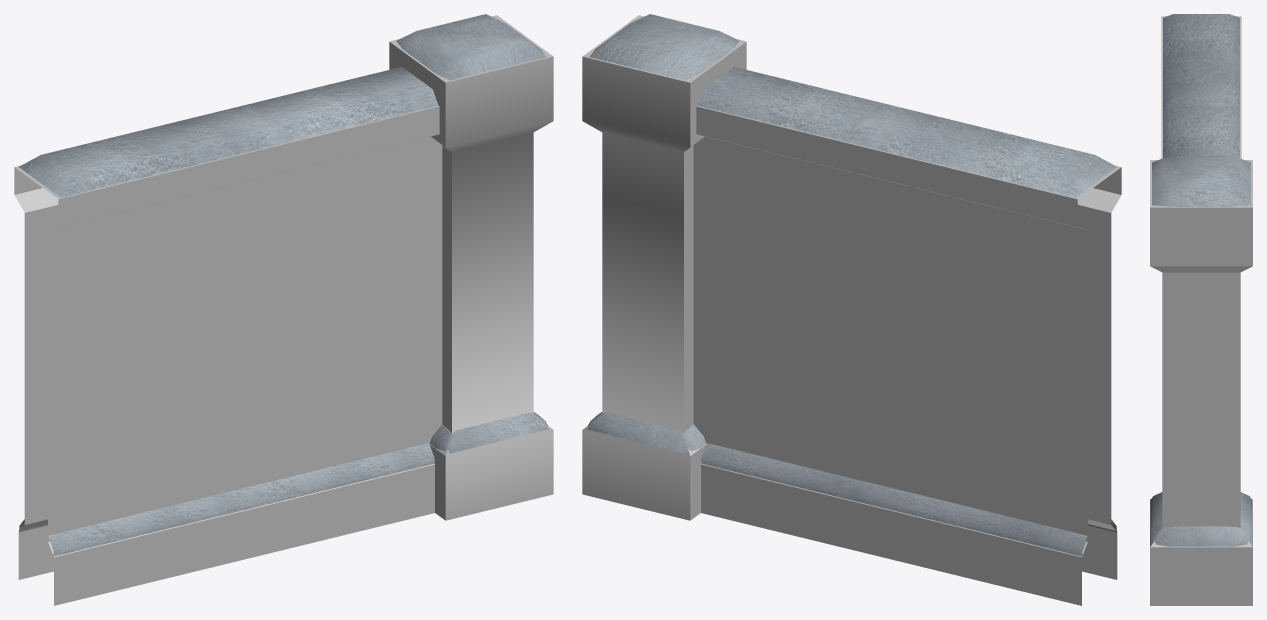
The model's file is qiangti_01.FBX.
3 views of the same model, side by side, from view 1: azimuth 30°, elevation 25°; view 2: azimuth 150°, elevation 25°; view 3: azimuth 270°, elevation 25° (orthographic). The views are drawn at different scales.
Parts seen in each view (by area): view 1: qiangti_01; view 2: qiangti_01; view 3: qiangti_01.
Boxes of the visible parts, x1,y1,x2,y2 form: qiangti_01: (14,14,553,605); qiangti_01: (582,14,1121,605); qiangti_01: (1150,14,1252,605).
Bounding box in the file's own units: 4.99 × 4.39 × 1.
